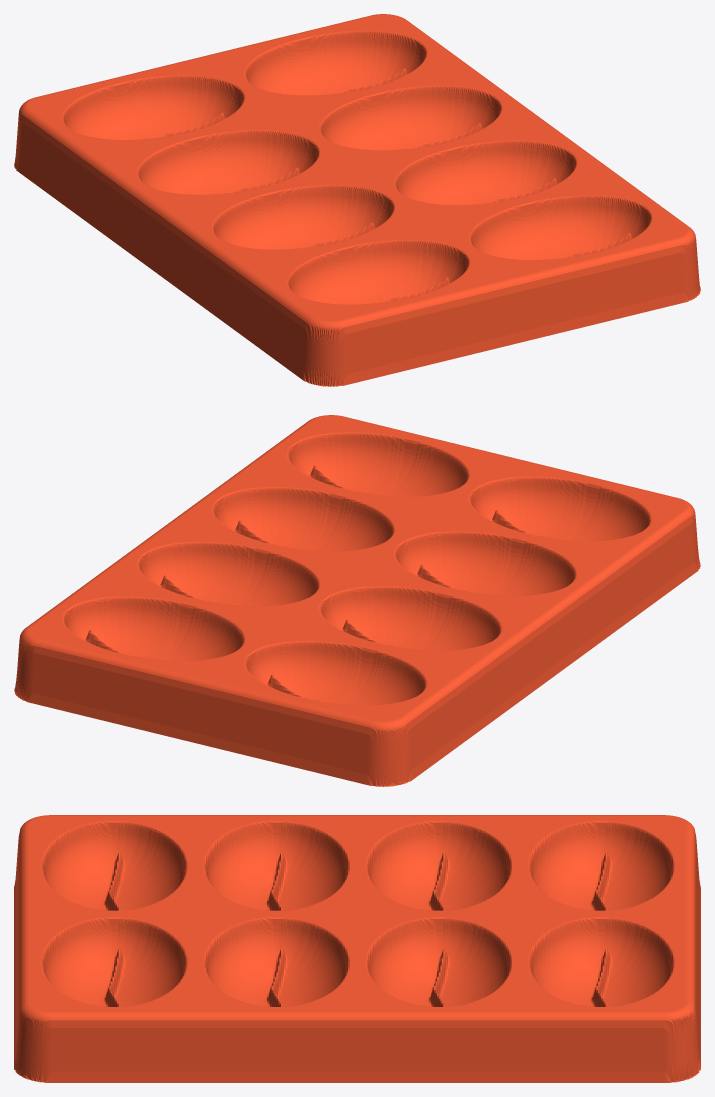
File: mold.glb
3 renders of one model, top to bottom at view 1: azimuth 30°, elevation 25°; view 2: azimuth 150°, elevation 25°; view 3: azimuth 270°, elevation 25°, orthographic. The views are drawn at different scales.
Parts seen in each view (by area): view 1: geometry_0; view 2: geometry_0; view 3: geometry_0.
Part boxes in pixels (bbox=[...]): geometry_0: bbox=[14, 14, 700, 386]; geometry_0: bbox=[14, 415, 700, 786]; geometry_0: bbox=[14, 815, 700, 1082].
Size of the model in its own units: 0.1209 by 0.0175 by 0.1683.
